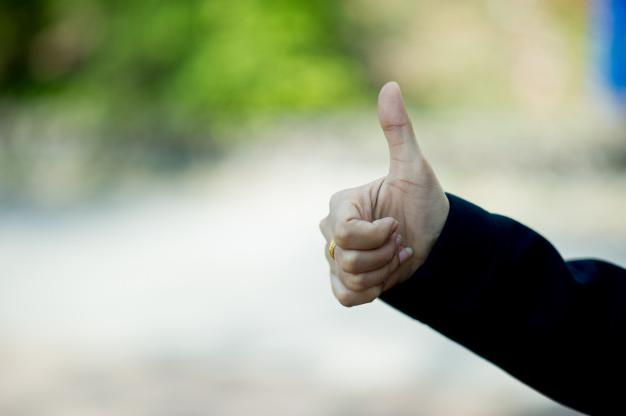thumbsup: (319, 81, 416, 308)
